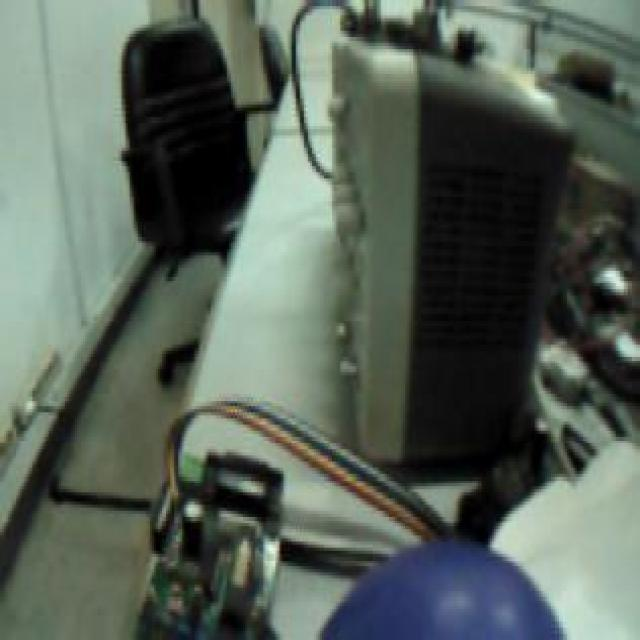BallPurple: (316, 542, 575, 640)
